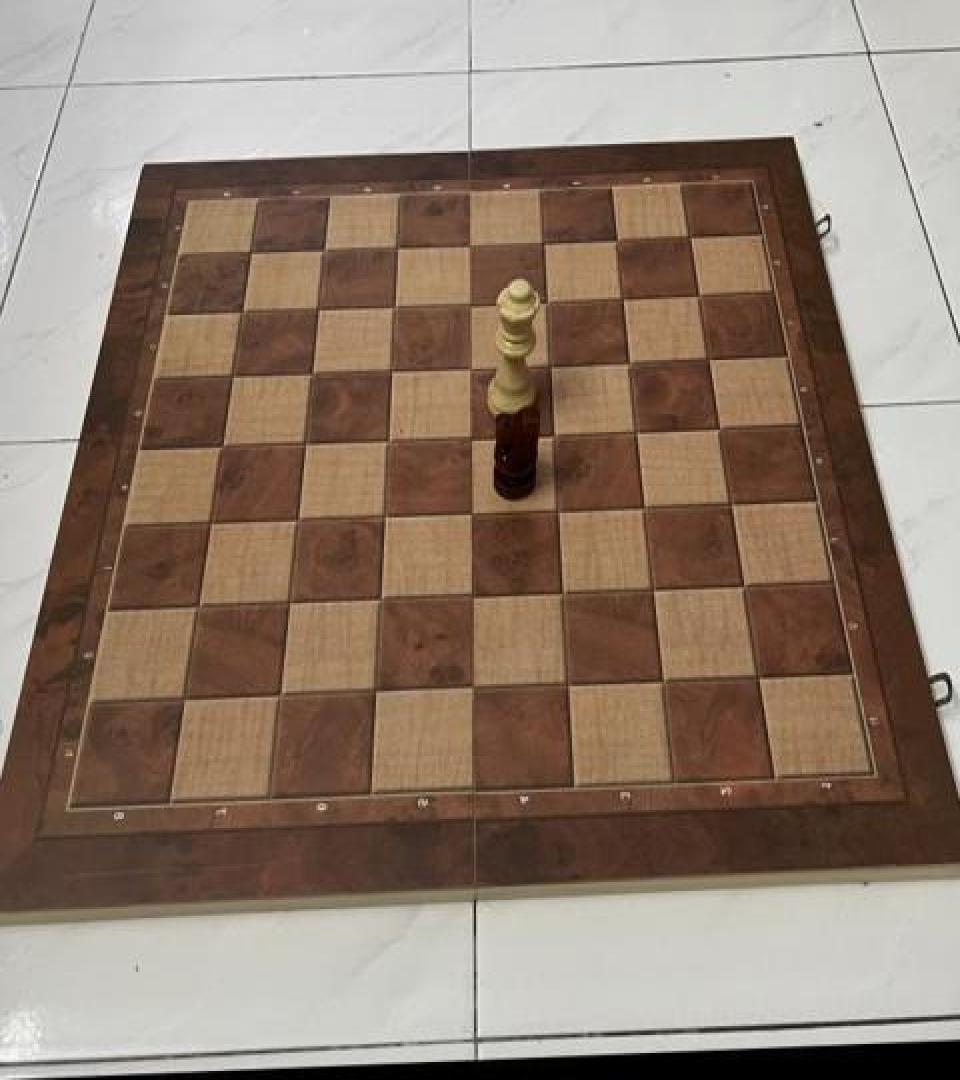xcorner: (452, 418, 486, 457), (453, 669, 487, 708), (644, 661, 678, 700), (233, 236, 267, 274), (306, 233, 340, 271), (379, 231, 413, 269), (452, 228, 486, 266), (525, 224, 559, 262), (599, 222, 633, 260), (672, 218, 706, 256), (224, 295, 258, 333), (300, 292, 334, 330), (376, 289, 410, 327), (452, 286, 486, 324), (528, 282, 562, 320), (605, 280, 639, 318), (681, 277, 715, 315), (215, 359, 249, 397), (294, 356, 328, 394), (373, 352, 407, 390), (452, 350, 486, 388), (532, 346, 566, 384), (611, 343, 645, 381), (691, 340, 725, 378), (204, 429, 238, 467), (287, 426, 321, 464), (370, 422, 404, 460), (535, 415, 569, 453), (618, 413, 652, 451), (701, 410, 735, 448), (193, 504, 227, 542), (279, 501, 313, 539), (366, 498, 400, 536), (452, 495, 486, 533), (539, 492, 573, 530), (626, 488, 660, 526), (713, 485, 747, 523), (180, 588, 214, 626), (271, 584, 305, 622), (362, 580, 396, 618), (452, 577, 486, 615), (543, 574, 577, 612), (634, 570, 668, 608), (726, 567, 760, 605), (167, 680, 201, 718), (262, 676, 296, 714), (357, 673, 391, 711), (548, 665, 582, 703), (740, 658, 774, 696)
